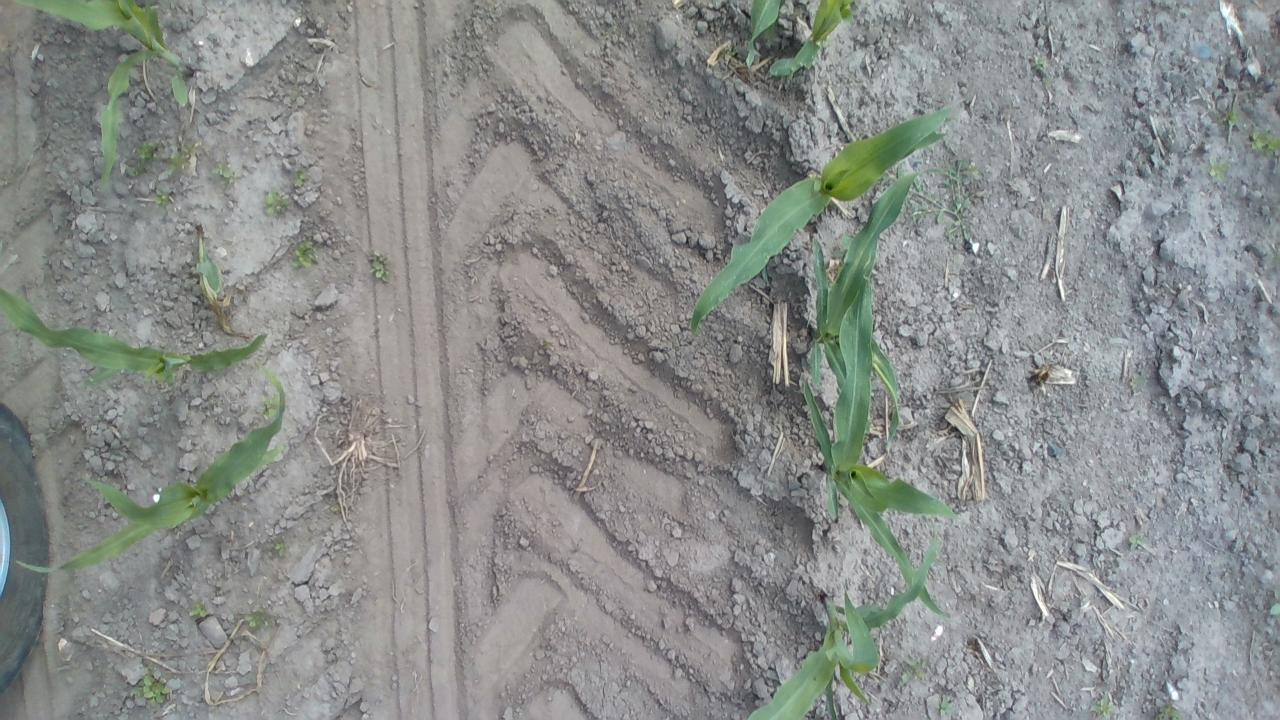Maize: (692, 98, 962, 334), (802, 249, 964, 620), (17, 361, 286, 573), (805, 166, 954, 444), (738, 514, 937, 720), (0, 244, 267, 388), (7, 0, 196, 183), (744, 0, 859, 78)
Weeds: (881, 156, 980, 242), (131, 664, 171, 708), (131, 140, 160, 176), (1249, 128, 1280, 156), (167, 144, 195, 175), (290, 239, 317, 270), (209, 161, 238, 189), (368, 248, 391, 283), (900, 657, 930, 682), (264, 188, 290, 216), (831, 231, 854, 262), (256, 394, 282, 421), (1206, 156, 1230, 182), (245, 606, 272, 628), (1089, 696, 1116, 718), (1154, 702, 1180, 720), (153, 187, 170, 214), (1217, 109, 1242, 127), (292, 166, 310, 188), (936, 697, 955, 717), (189, 600, 210, 618), (1267, 589, 1280, 617), (1128, 531, 1146, 550), (270, 536, 286, 557), (1032, 55, 1046, 71), (724, 44, 739, 58), (1128, 376, 1146, 387), (165, 373, 178, 384)
